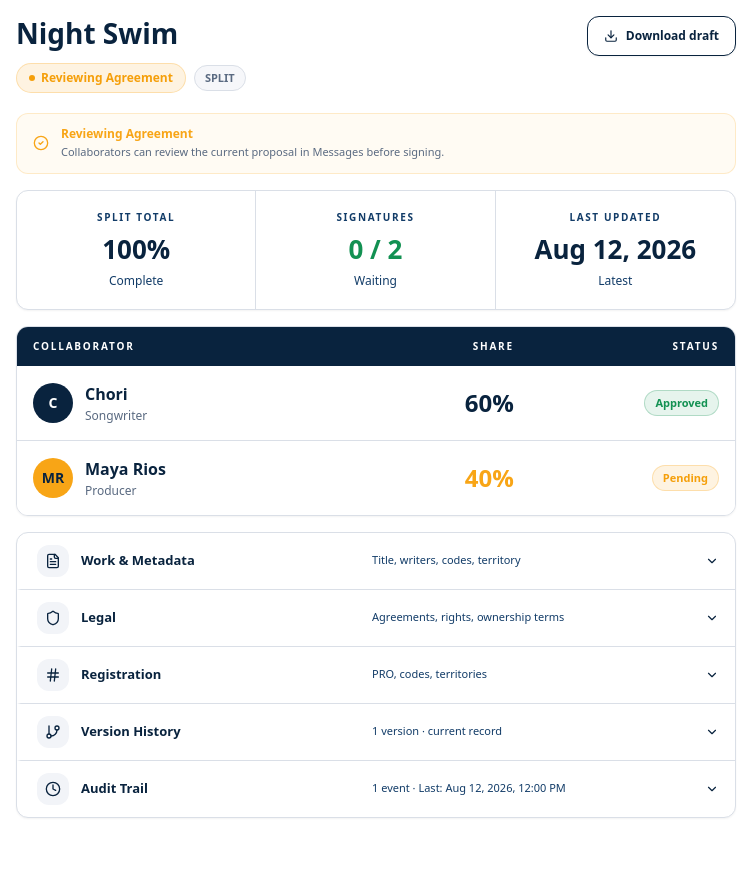
Test: collaborator registration preview › labels missing fields without inventing registration details
Step 1. Click the button "Registration PRO, codes, territories" → (378, 674), box 21,646 -> 735,702
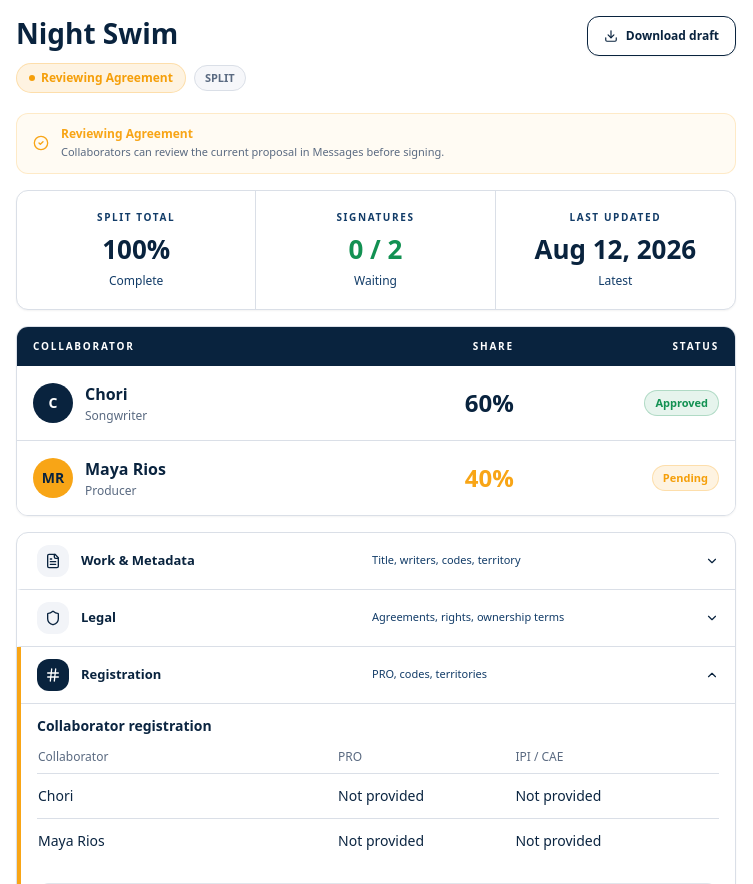
Result: the text "Not provided" is shown 4 times at 337,773 -> 514,818; 514,773 -> 719,818; 337,818 -> 514,862; 514,818 -> 719,862
